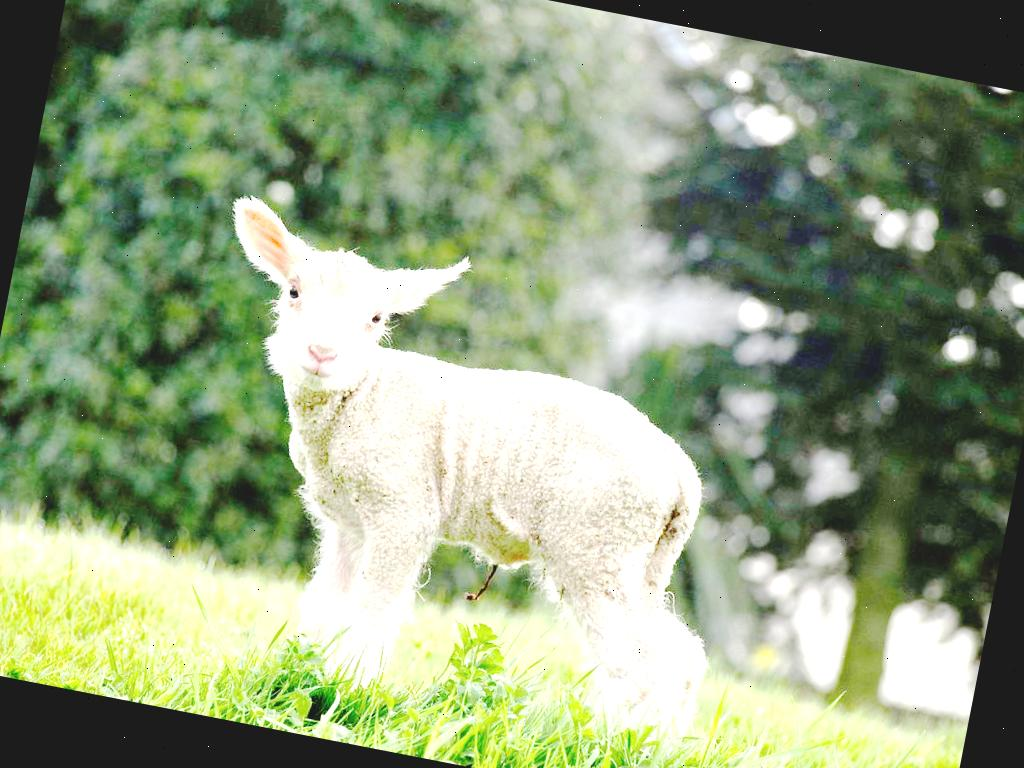Sheep: (143, 186, 775, 754)
